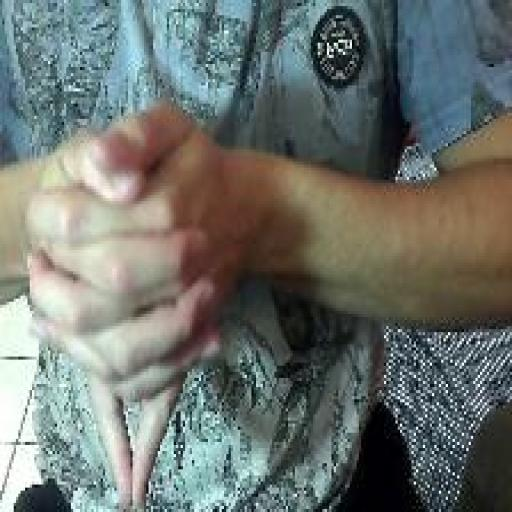Tatsu -dragon-: (21, 91, 226, 512)
